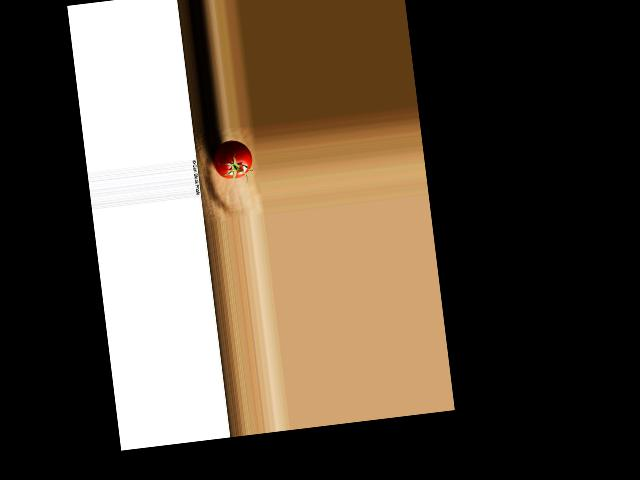tomato: (211, 139, 253, 181)
